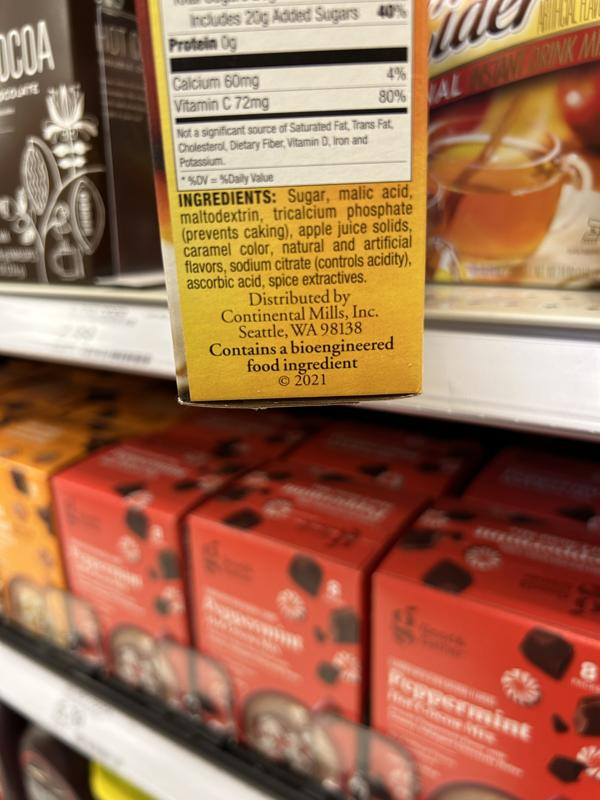ingredients: (175, 182, 418, 292)
